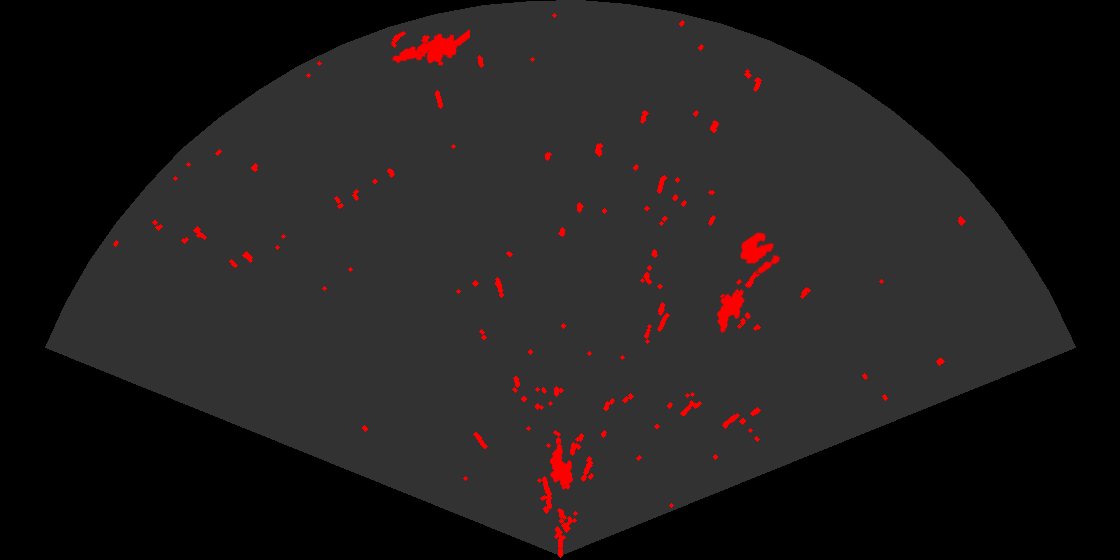AUV: (715, 287, 746, 335), (548, 442, 575, 491)
ball: (738, 230, 782, 276)
frogman: (391, 28, 470, 67)
